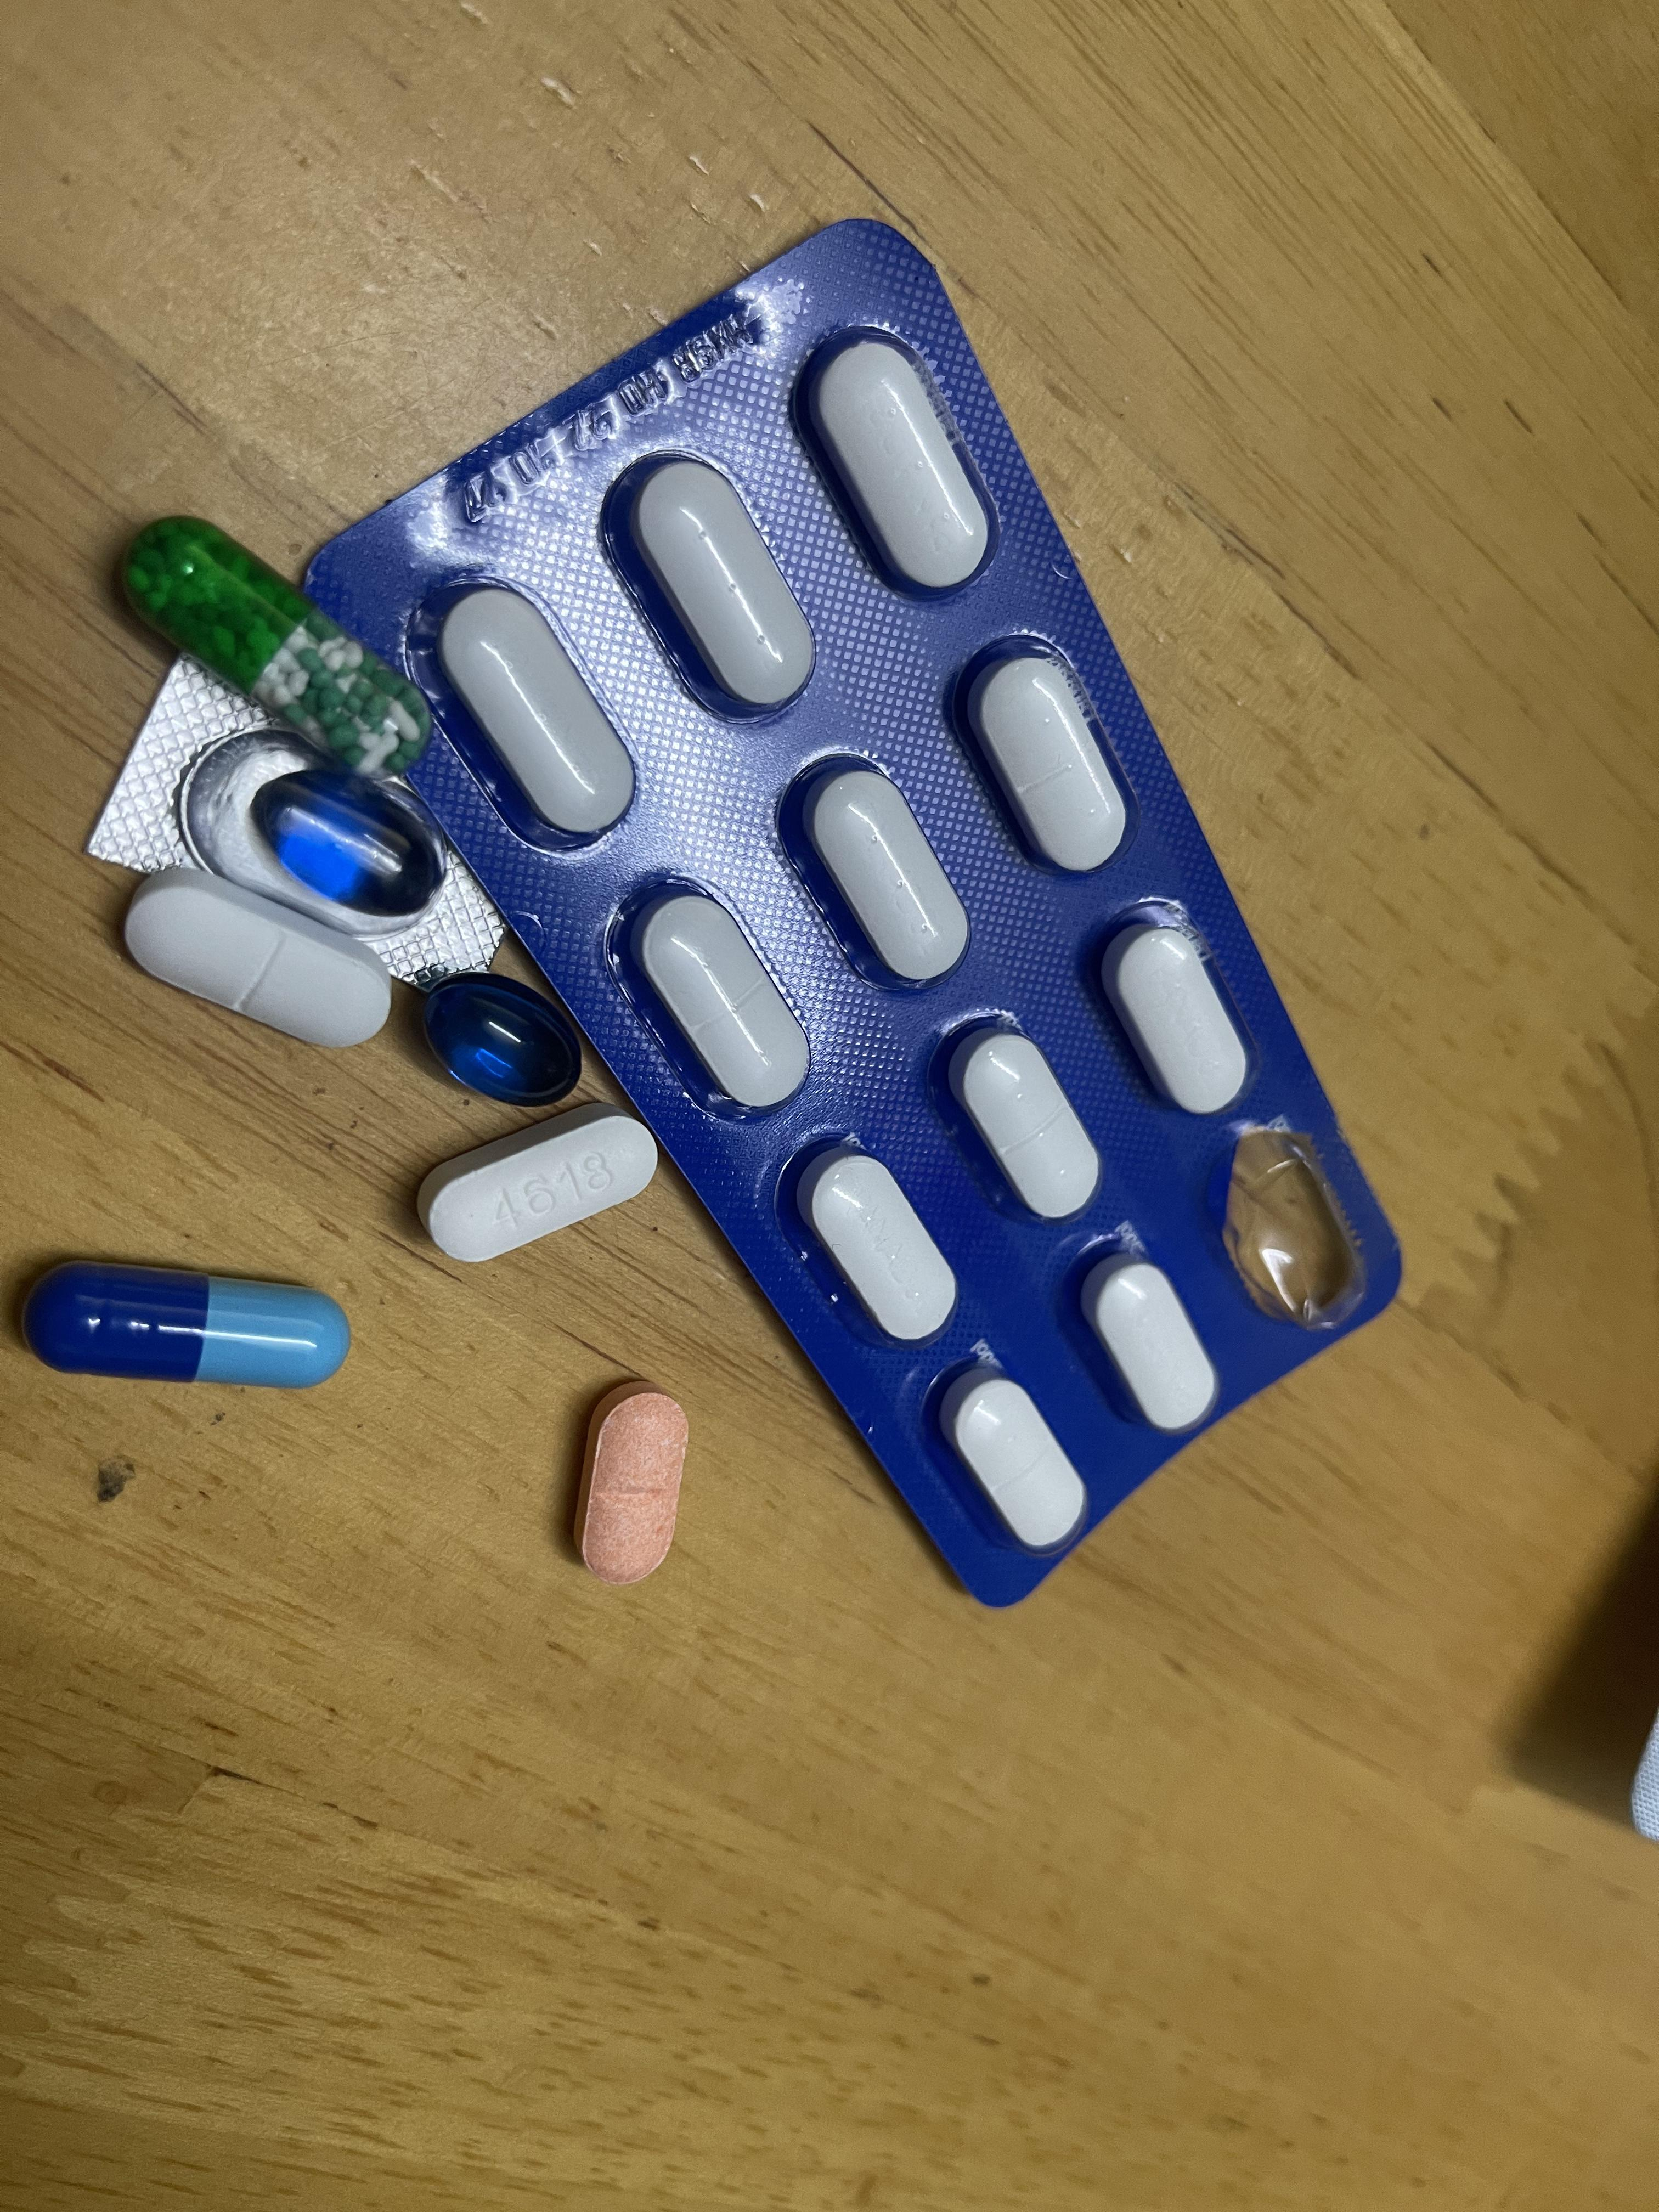Lincomyxin_500mg: (253, 770, 451, 923), (420, 975, 579, 1101)
Loratadine_10mg: (573, 1383, 692, 1585)
Paracetamol_350mg: (437, 583, 633, 838), (807, 336, 993, 596), (626, 455, 809, 707), (124, 880, 390, 1052), (624, 888, 810, 1113), (803, 768, 974, 989), (964, 655, 1122, 873), (798, 1143, 957, 1341), (950, 1024, 1101, 1219), (941, 1366, 1087, 1552), (1103, 923, 1244, 1111), (1079, 1252, 1220, 1433)
Paracetamol_500mg: (423, 1116, 653, 1261)
Paracetamol_650mg: (124, 523, 422, 765)
pill: (28, 1270, 343, 1383)
